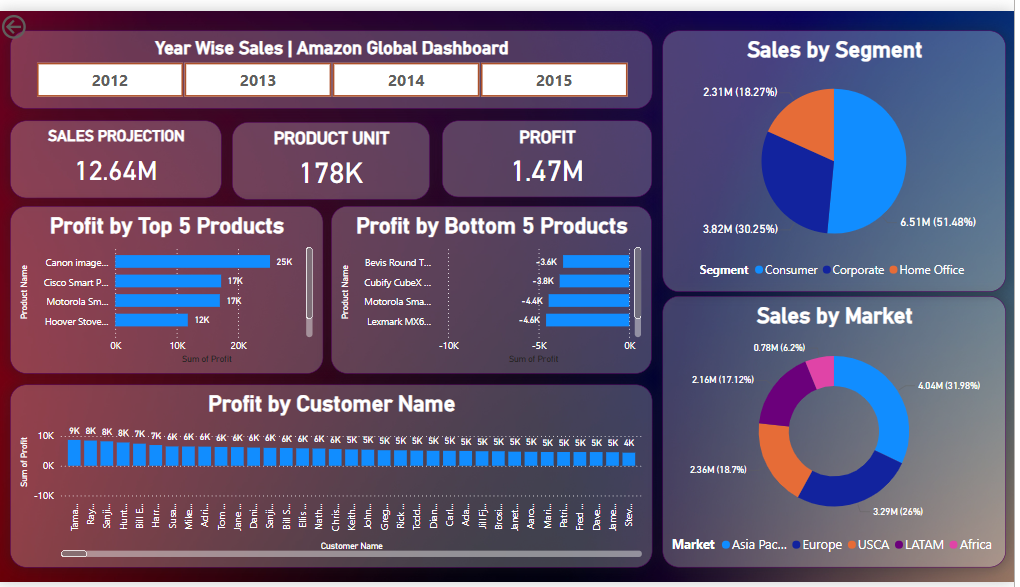

What the dashboard file says about the page in this screenshot:
{"tool":"powerbi","page":{"name":"Page 1","canvas":[1280,720],"ordinal":0},"visuals":[{"type":"card","title":"SALES PROJECTION","fields":{"Values":["Orders.Sales"]},"box":[14.3,138.4,213.1,97],"z":0},{"type":"slicer","title":"Year Wise Sales | Amazon Global Dashboard","fields":{"Values":["Orders.Year"]},"box":[14.3,23.9,809.6,98.6],"z":1000},{"type":"card","title":"PRODUCT UNIT","fields":{"Values":["Orders.Quantity"]},"box":[230.6,136.8,178.1,97],"z":2000},{"type":"card","title":"KPI","fields":{"Values":["Orders.Delivery Duration"]},"box":[419.9,136.8,190.9,97],"z":3000},{"type":"columnChart","fields":{"Category":["Orders.Customer Name"],"Y":["Orders.Profit"]},"box":[14.3,470.8,809.6,230.6],"z":5000},{"type":"donutChart","fields":{"Category":["Orders.Market"],"Y":["Orders.Sales"]},"box":[836.7,359.5,432.6,342],"z":6000},{"type":"pieChart","fields":{"Category":["Orders.Segment"],"Y":["Orders.Sales"]},"box":[836.7,23.9,432.6,329.3],"z":7000},{"type":"barChart","fields":{"Y":["Orders.Profit"],"Category":["Orders.Product Name"]},"box":[14.3,246.5,394.5,211.6],"z":8000},{"type":"barChart","fields":{"Category":["Orders.Product Name"],"Y":["Orders.Profit"]},"box":[419.9,246.5,404,211.6],"z":9000},{"type":"actionButton","box":[0,0,100,40],"z":9001},{"type":"card","title":"PROFIT","fields":{"Values":["Orders.Profit"]},"box":[621.9,138.4,202,95.4],"z":9002}]}

Visuals, with their boxes in screenshot pixels (x1, y1, x2, y2), scaled from the page's 1280x720 canvas onto the 1020x587 screenshot:
"SALES PROJECTION" card: [x1=11, y1=113, x2=181, y2=192]
"Year Wise Sales | Amazon Global Dashboard" slicer: [x1=11, y1=19, x2=657, y2=100]
"PRODUCT UNIT" card: [x1=184, y1=112, x2=326, y2=191]
"KPI" card: [x1=335, y1=112, x2=487, y2=191]
columnChart - Orders.Customer Name x Orders.Profit: [x1=11, y1=384, x2=657, y2=572]
donutChart - Orders.Market x Orders.Sales: [x1=667, y1=293, x2=1011, y2=572]
pieChart - Orders.Segment x Orders.Sales: [x1=667, y1=19, x2=1011, y2=288]
barChart - Orders.Profit x Orders.Product Name: [x1=11, y1=201, x2=326, y2=373]
barChart - Orders.Product Name x Orders.Profit: [x1=335, y1=201, x2=657, y2=373]
actionButton: [x1=0, y1=0, x2=80, y2=33]
"PROFIT" card: [x1=496, y1=113, x2=657, y2=191]
